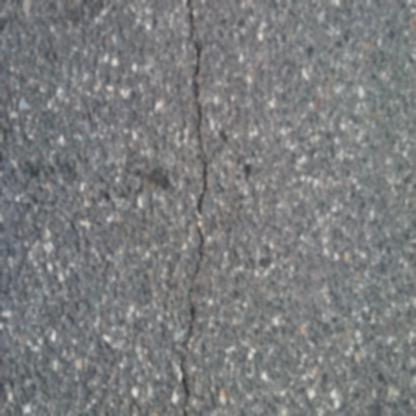Cracks: (174, 0, 216, 416)
